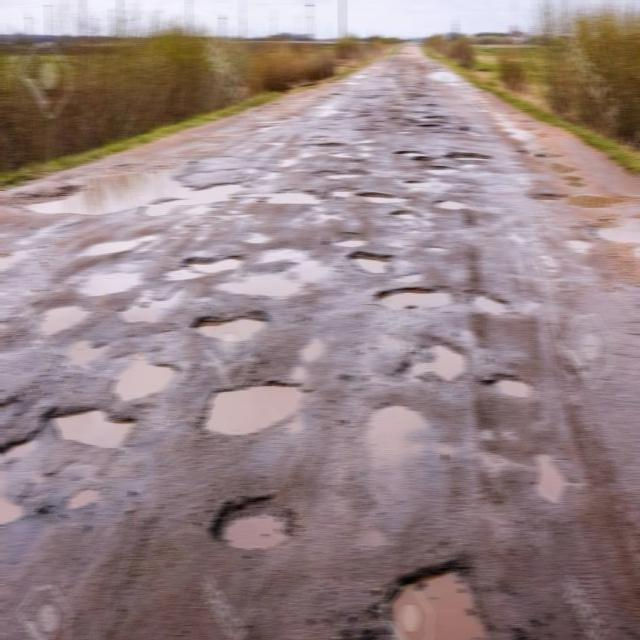Pothole: (355, 557, 529, 640), (204, 486, 310, 565), (197, 373, 311, 442), (392, 332, 500, 388), (188, 295, 286, 353), (187, 266, 316, 306), (38, 406, 130, 452), (479, 358, 548, 417), (119, 344, 177, 414), (369, 284, 468, 322), (117, 285, 194, 330), (23, 295, 99, 339), (59, 267, 149, 304), (366, 109, 472, 139), (49, 334, 127, 374), (170, 251, 251, 287), (68, 229, 170, 256), (529, 446, 576, 502), (334, 246, 414, 274), (52, 466, 96, 516), (462, 280, 516, 320), (0, 424, 35, 483), (254, 186, 315, 219), (240, 241, 314, 267), (435, 194, 511, 218), (397, 149, 497, 167), (329, 218, 374, 256), (404, 162, 464, 190), (0, 488, 26, 552), (442, 218, 499, 240), (314, 170, 370, 188), (0, 385, 22, 428), (346, 190, 408, 204), (526, 187, 566, 206), (382, 205, 422, 221), (416, 239, 453, 256), (311, 137, 357, 149)
